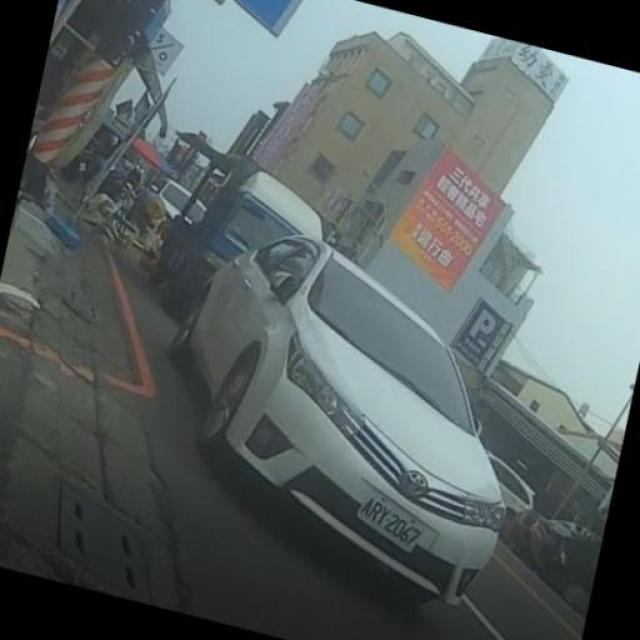Legalparking: (119, 220, 567, 607)
